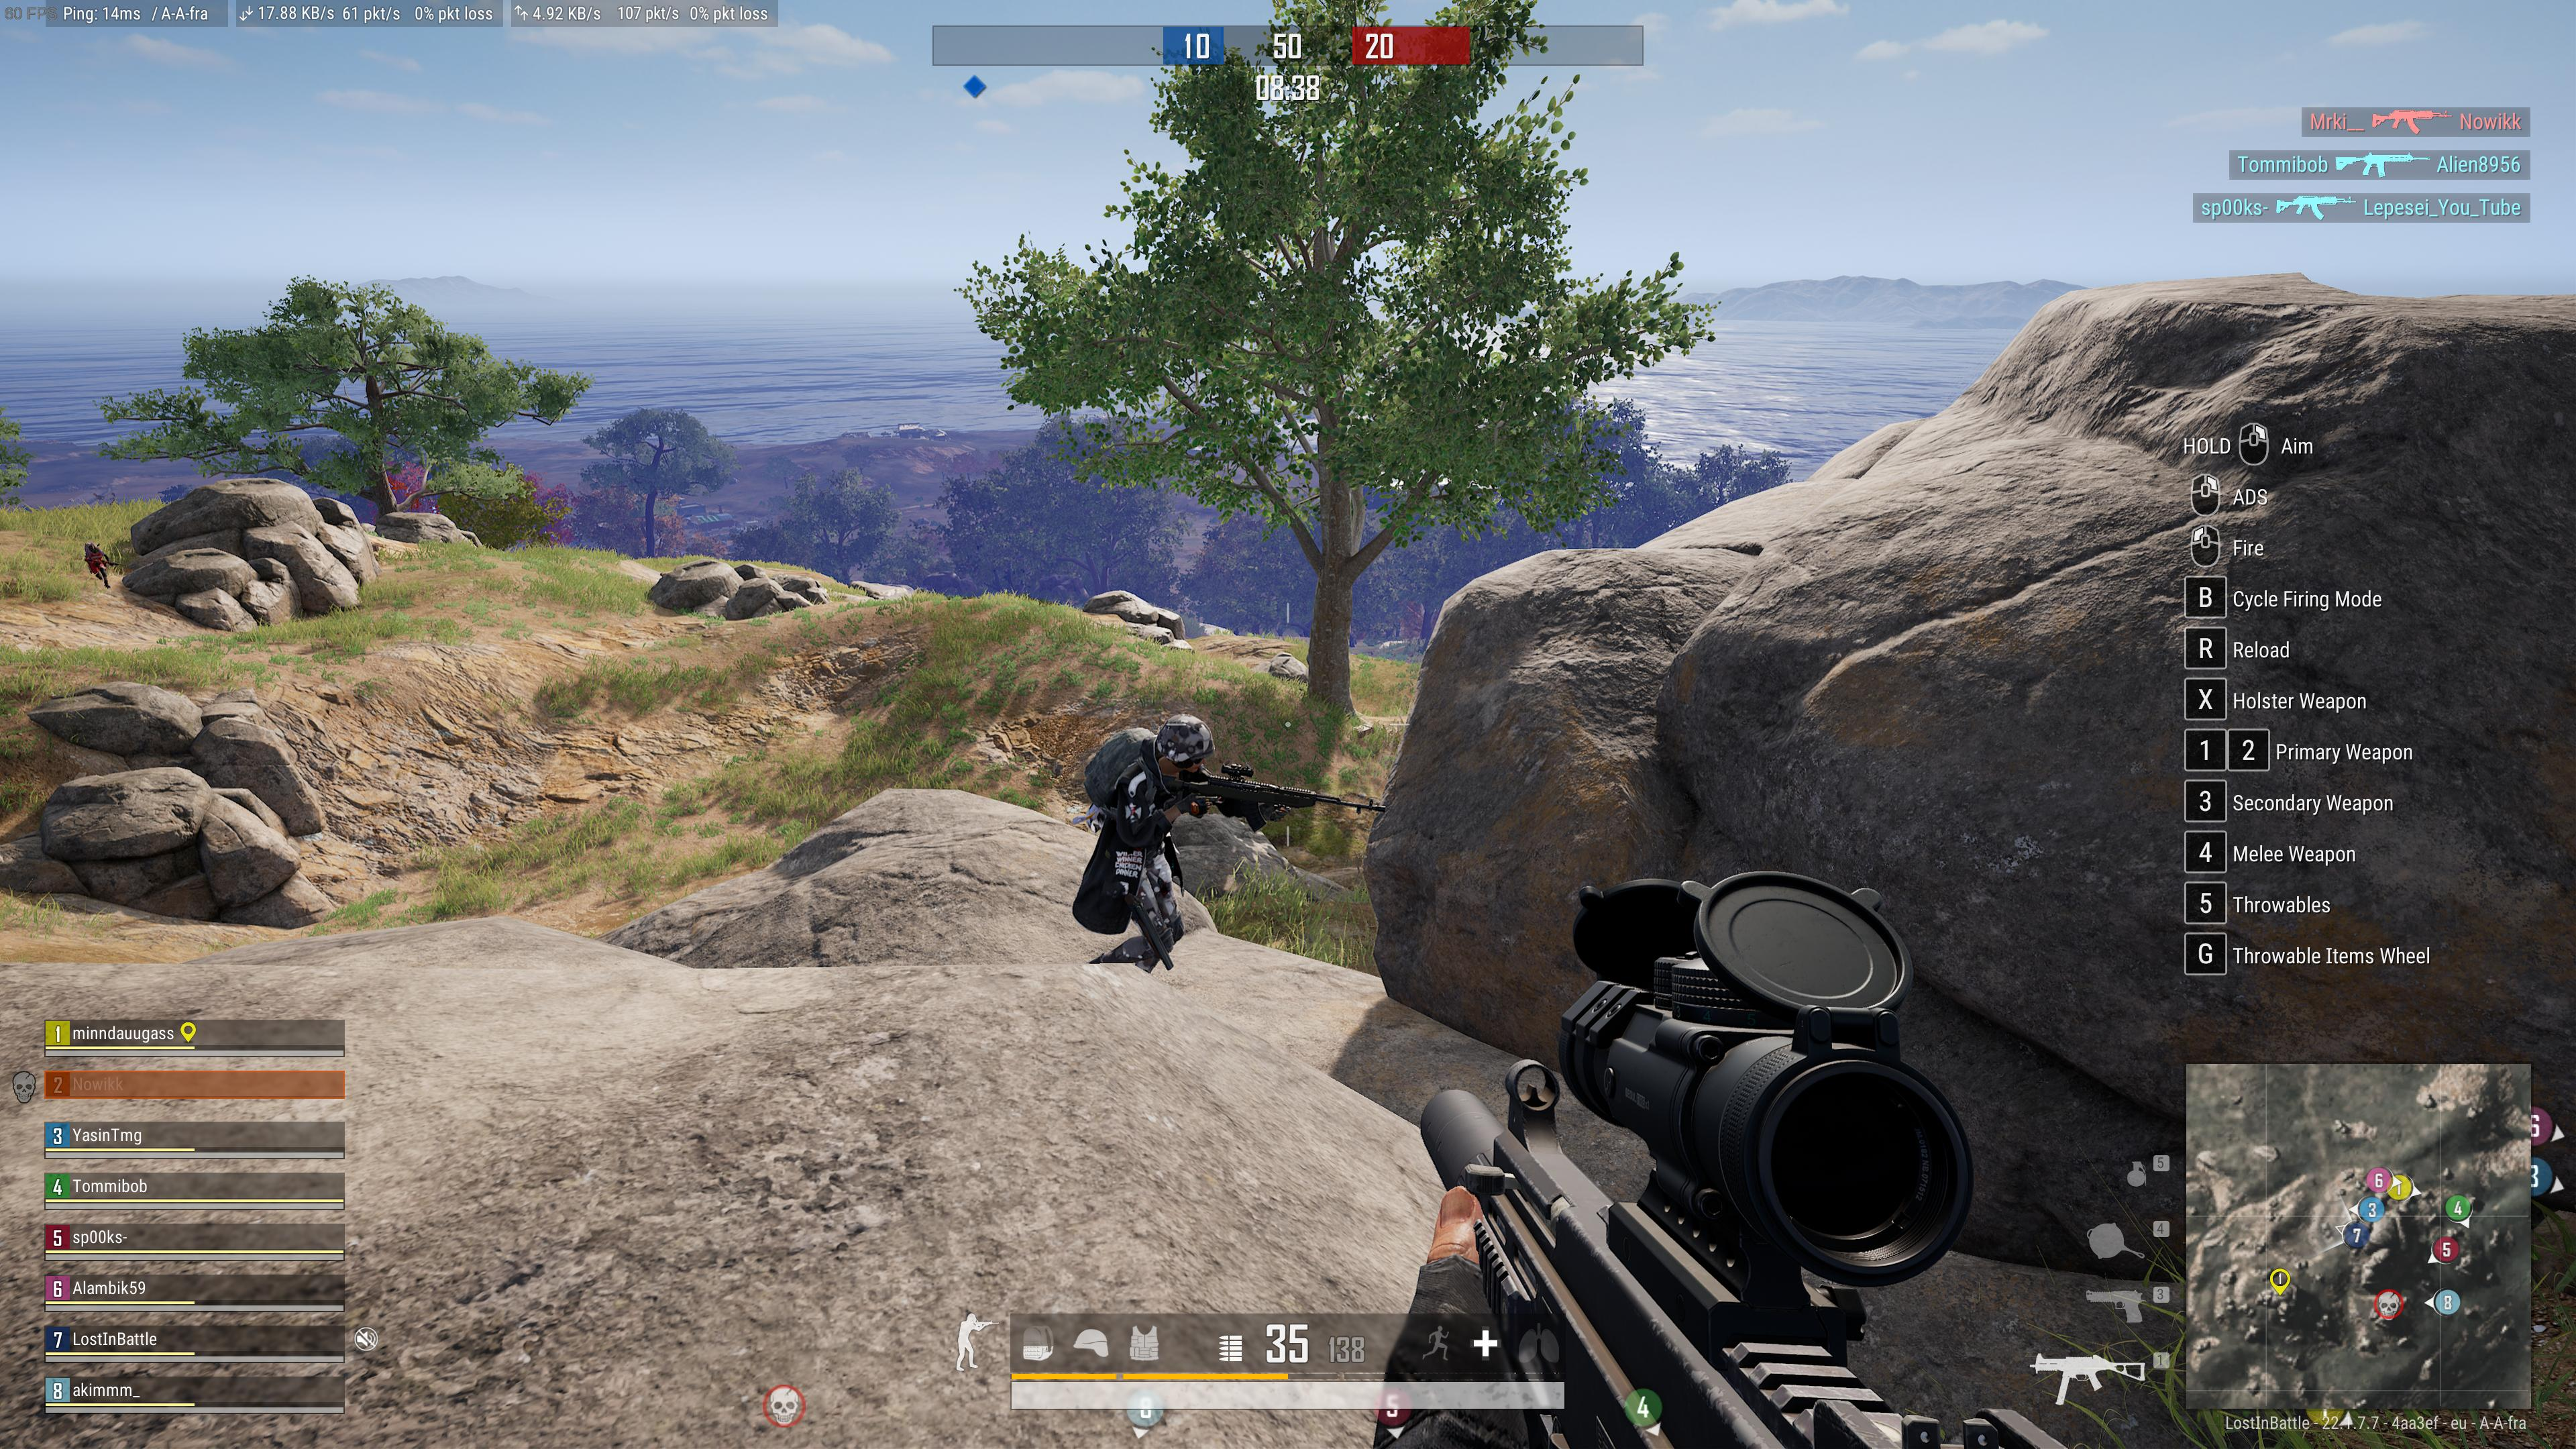enemy: (1074, 706, 1292, 977), (83, 540, 113, 589)
enemy_head: (1154, 708, 1215, 777), (87, 541, 101, 554)
